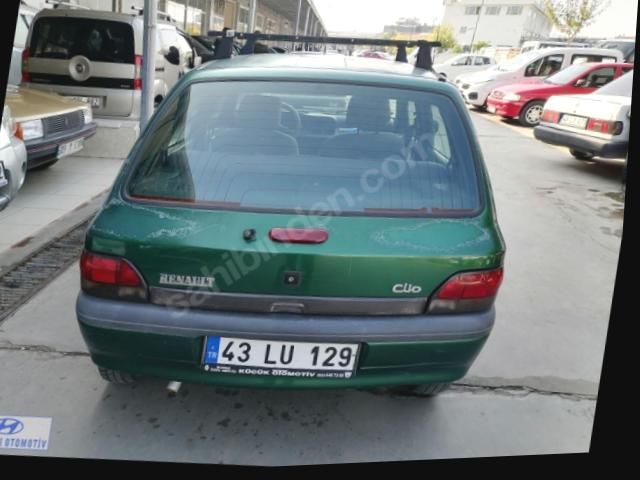plaka: (202, 337, 360, 377), (56, 137, 83, 158), (66, 95, 99, 107), (558, 114, 586, 128)
